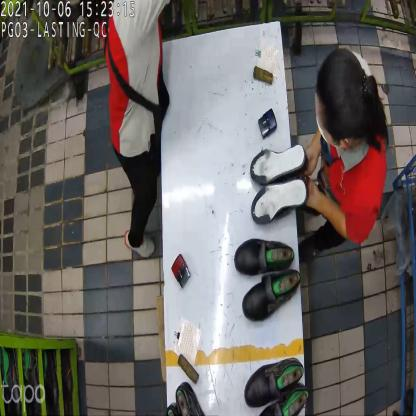shoes: (233, 239, 304, 324), (248, 146, 309, 228), (245, 358, 310, 416)
stamp: (258, 108, 278, 140), (173, 253, 191, 287)
